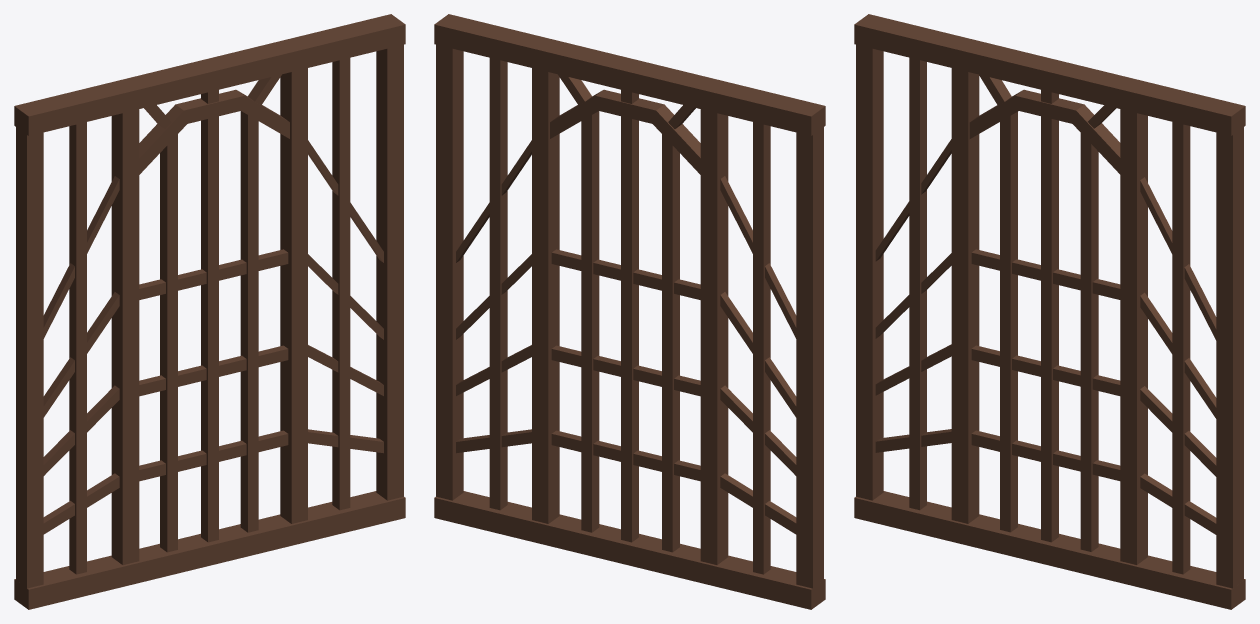
The model's file is Window Long 01.FBX.
The picture shows the model from 3 angles, left to right: view 1: azimuth 30°, elevation 25°; view 2: azimuth 150°, elevation 25°; view 3: azimuth 330°, elevation 25°; orthographic projection.
Parts seen in each view (by area): view 1: Window Long 01; view 2: Window Long 01; view 3: Window Long 01.
Boxes of the visible parts, x1=… form: Window Long 01: x1=14, y1=14, x2=405, y2=609; Window Long 01: x1=434, y1=14, x2=825, y2=609; Window Long 01: x1=854, y1=14, x2=1245, y2=609.
Bounding box in the file's own units: 400 × 500 × 26.5.
